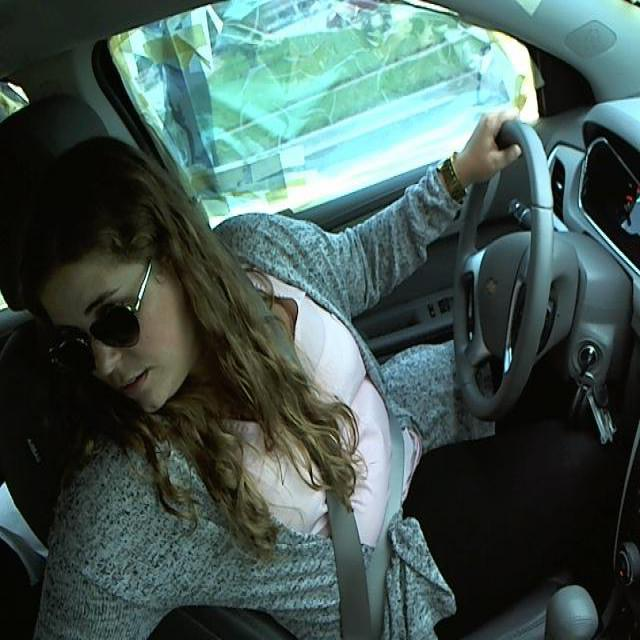seatbelt: (227, 320, 407, 631)
